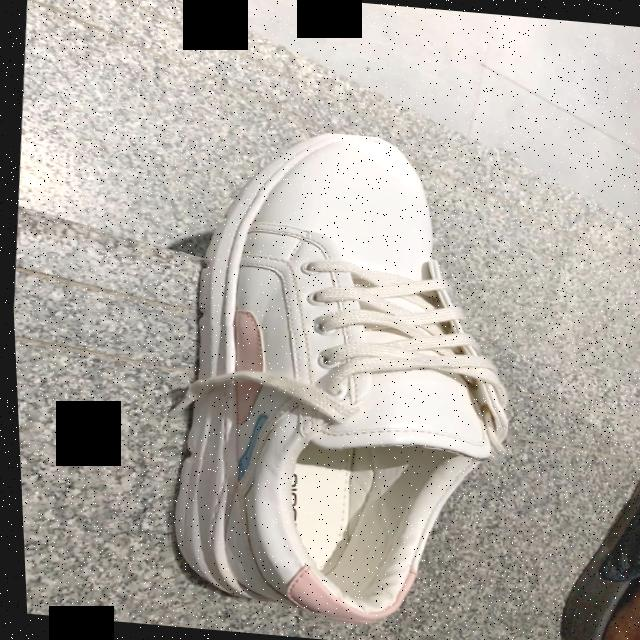shoe: (164, 133, 505, 623)
